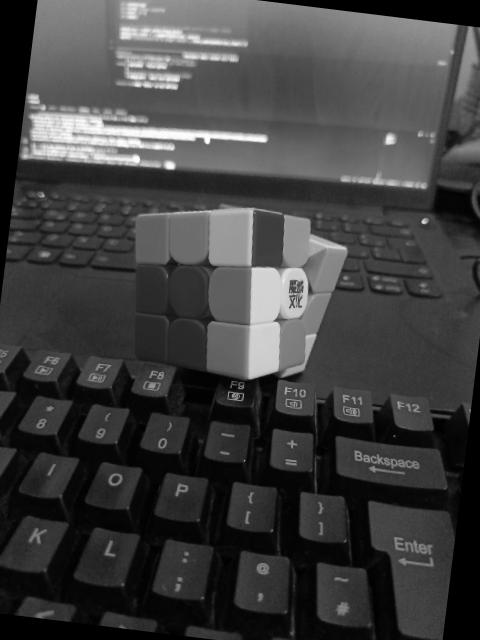rubik: (118, 191, 352, 389)
